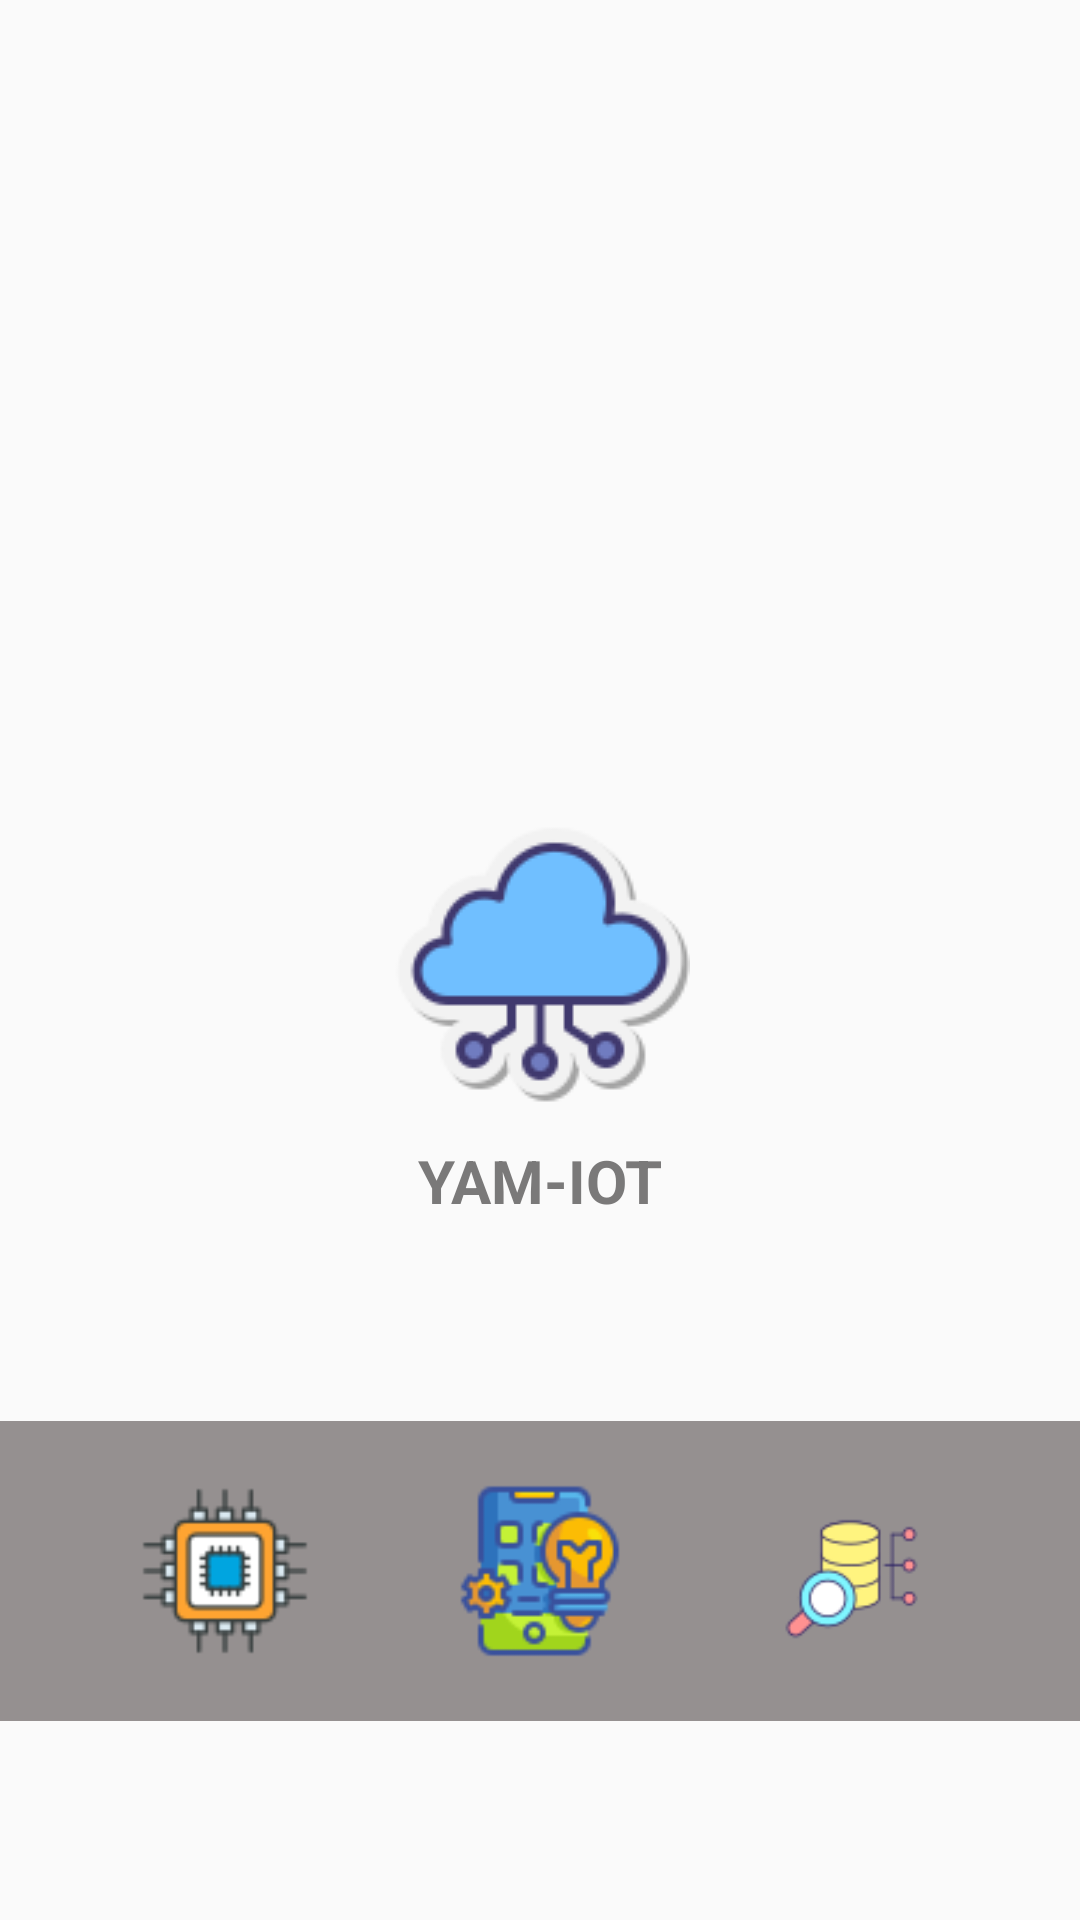

Where to tap for icons on this 1080px×1920px app screen, as (x,y):
app: (540,1571)
cloud: (550,972)
database: (851,1579)
hardware: (225,1571)
